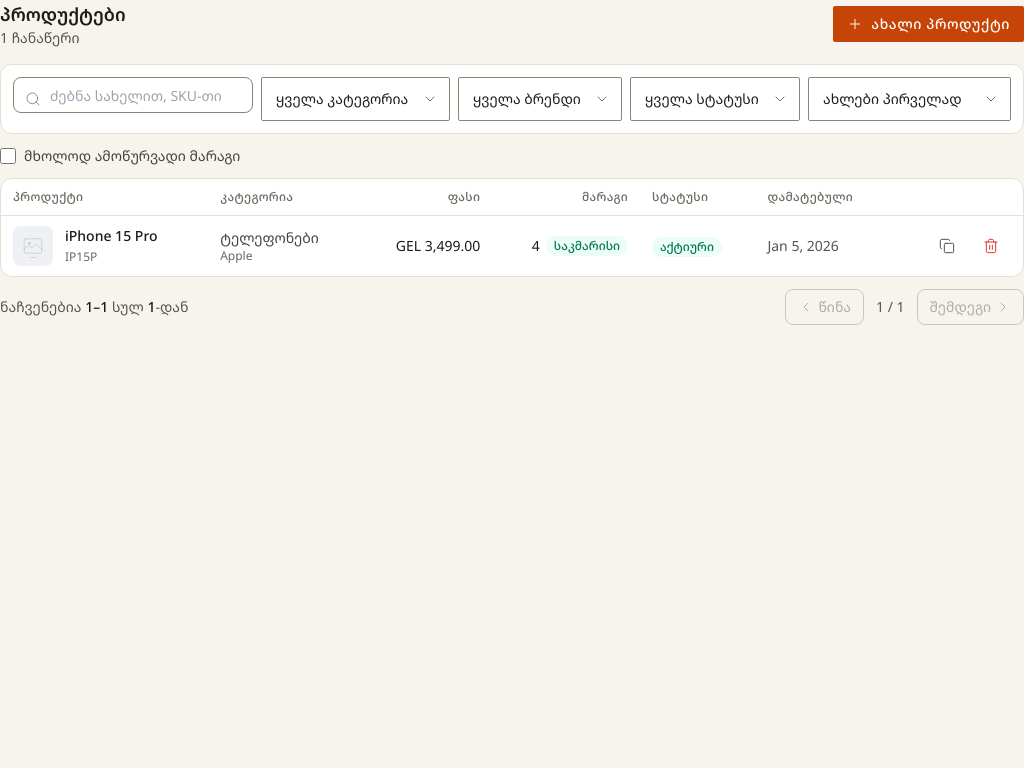
ProductList delete › keeps the dialog open and shows why when the server refuses for another reason
This screenshot has width=1024, height=768.
Click the button named "iPhone 15 Pro — წაშლა".
click(991, 246)  # box [971,230,1011,262]
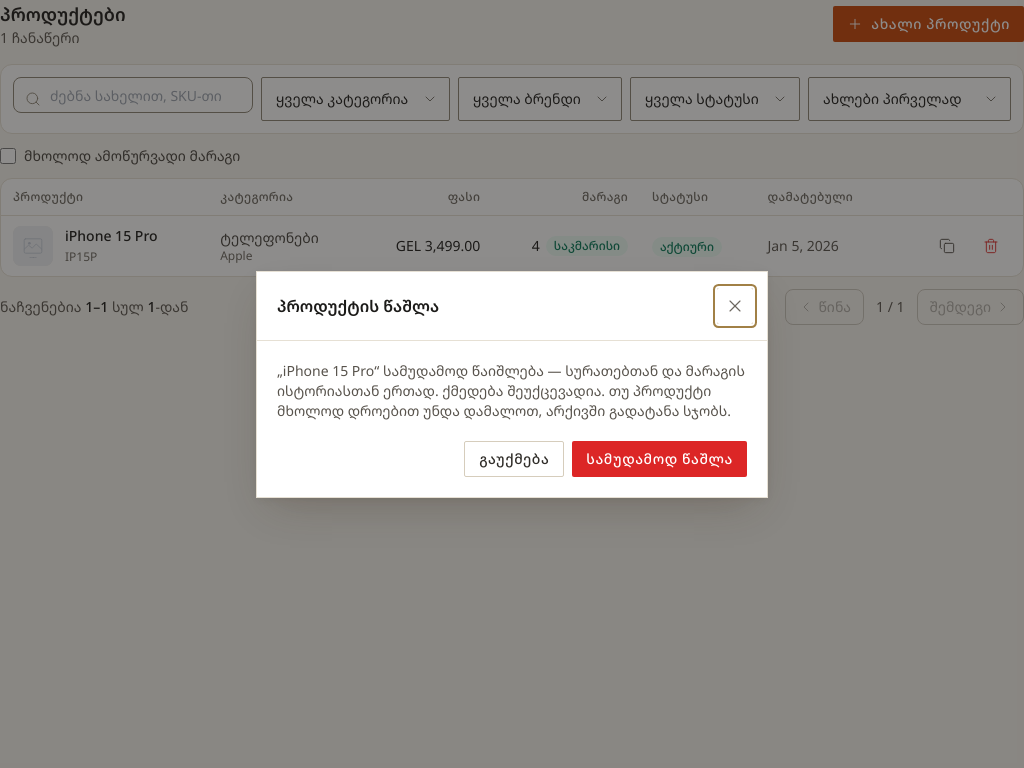
Click the button "სამუდამოდ წაშლა".
click(660, 458)  # box [572,440,747,476]
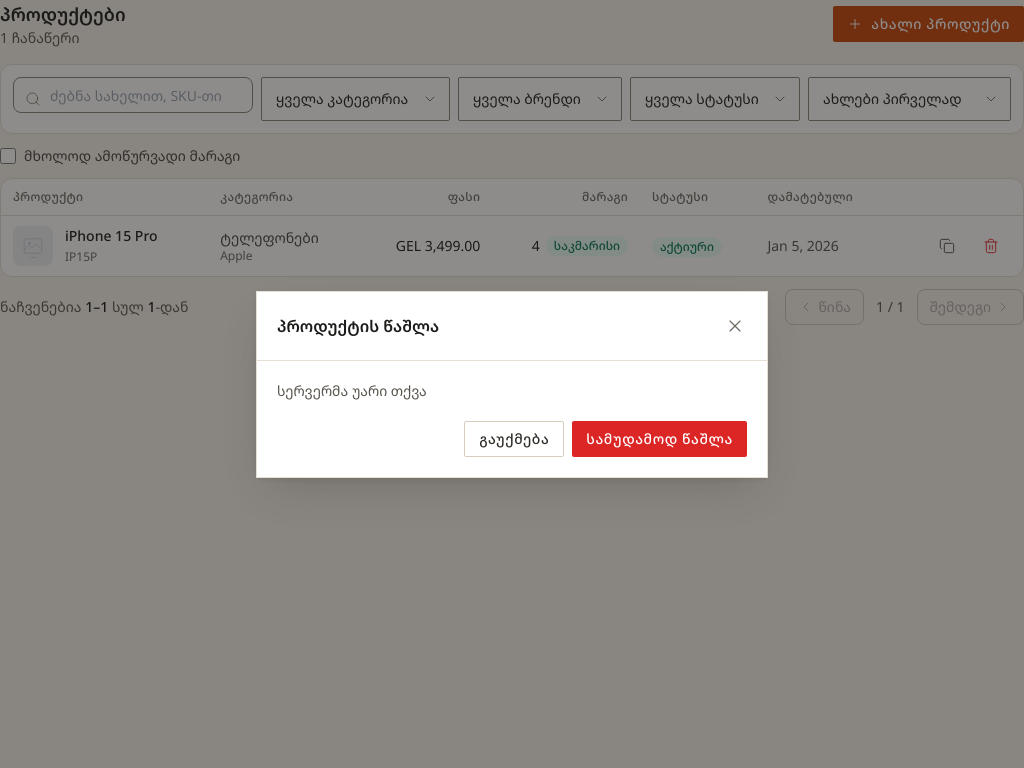
Result: the button "სამუდამოდ წაშლა" is shown at [572,420,747,456]
Result: the text "სერვერმა უარი თქვა" is shown at [277,380,427,400]
